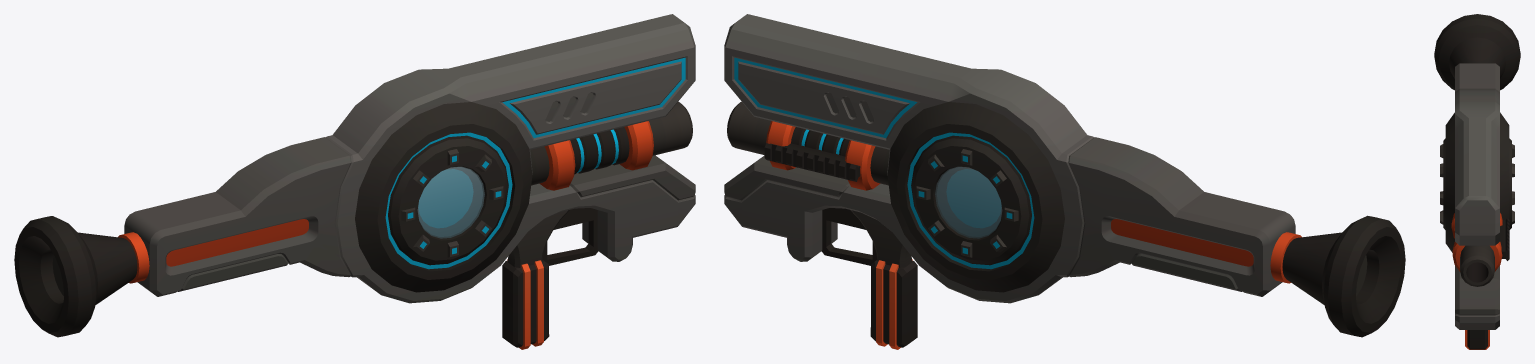
The picture shows the model from 3 angles, left to right: view 1: azimuth 30°, elevation 25°; view 2: azimuth 150°, elevation 25°; view 3: azimuth 270°, elevation 25°; orthographic projection. The views are drawn at different scales.
Parts seen in each view (by area): view 1: GL3_Base; view 2: GL3_Base; view 3: GL3_Base.
Part boxes in pixels (box(x1,y1,x2,y2)): GL3_Base: box(14, 14, 695, 349); GL3_Base: box(724, 14, 1405, 349); GL3_Base: box(1434, 14, 1520, 349).
Size of the model in its own units: 103 by 44.28 by 16.95.
